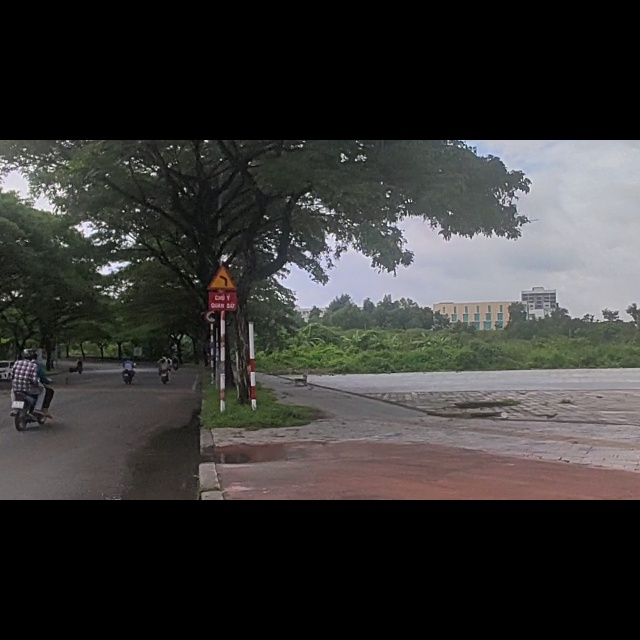bien_nguy_hiem: (206, 222, 241, 268)
